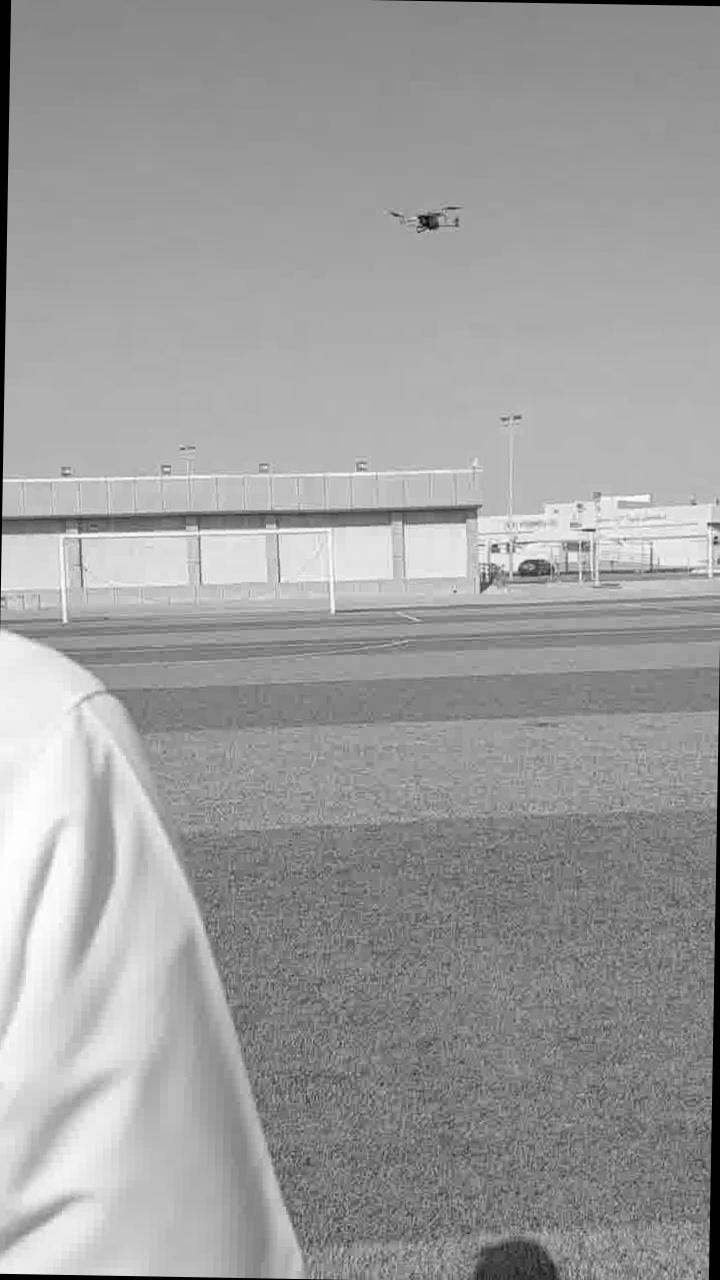drone: (379, 199, 475, 242)
